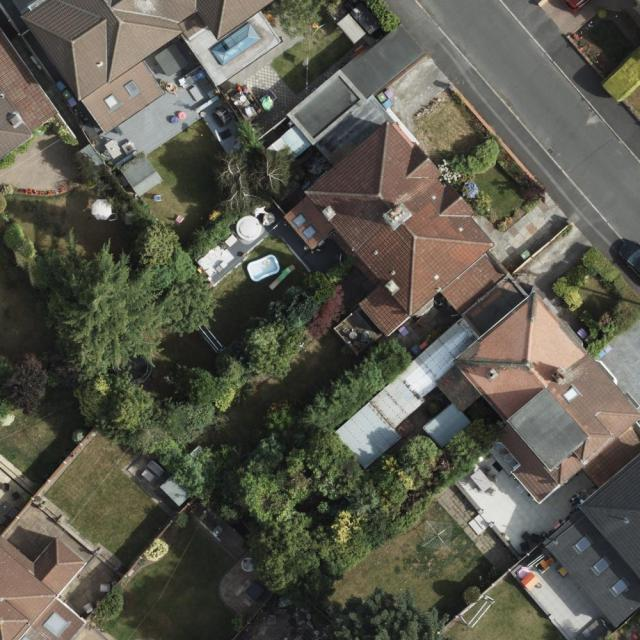roof: (285, 117, 640, 629), (20, 0, 284, 135), (0, 536, 88, 640), (0, 25, 60, 161)
skylight: (211, 20, 262, 63), (39, 609, 70, 638), (560, 383, 584, 405), (572, 532, 594, 556), (610, 576, 632, 597), (102, 92, 123, 114), (592, 554, 611, 575), (123, 78, 141, 98), (301, 223, 319, 240), (291, 213, 307, 229)
